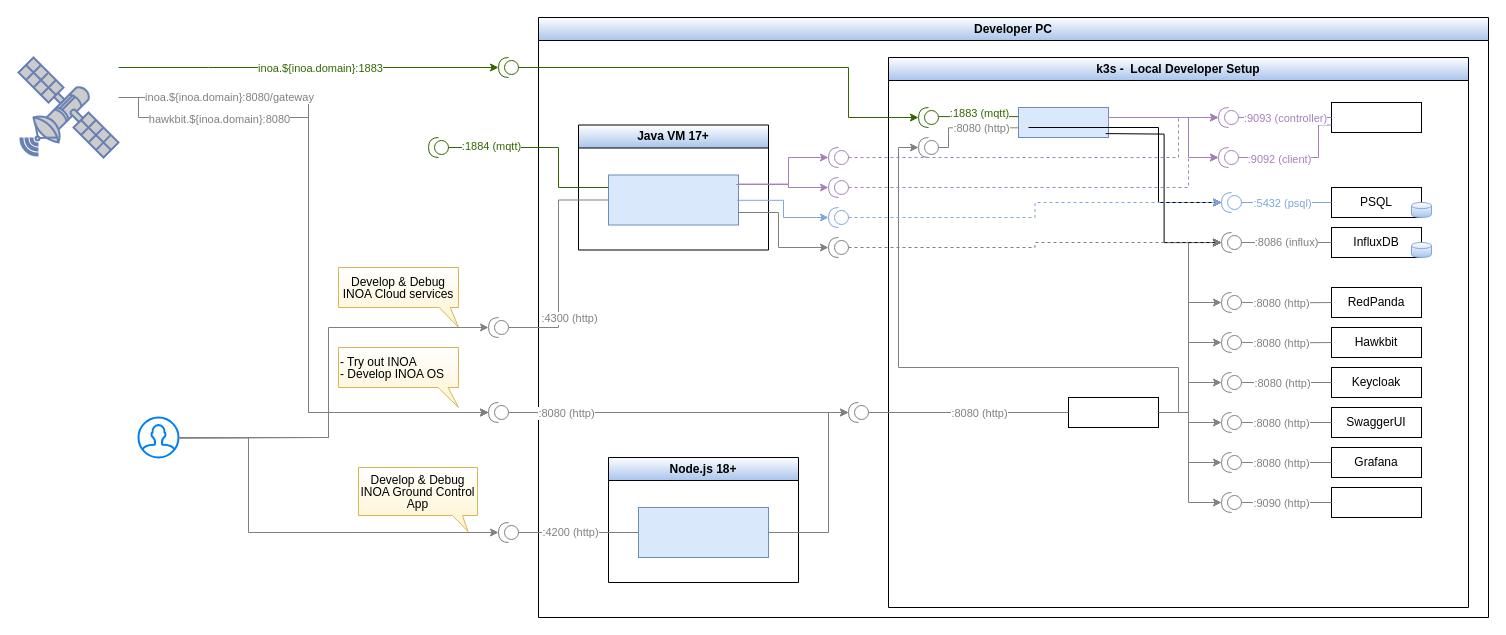
The diagram is 1506 pixels wide and 635 high, and some of its shapes have lost their labels. Each missing label, with the centre of its shape:
INOA: (x=1063, y=122)
INOA Cloud + GroundControl: (x=673, y=199)
INOA GroundControl: (x=703, y=532)
k8s Dashboard: (x=1376, y=502)
Kafka: (x=1376, y=117)
Traefik: (x=1113, y=412)
